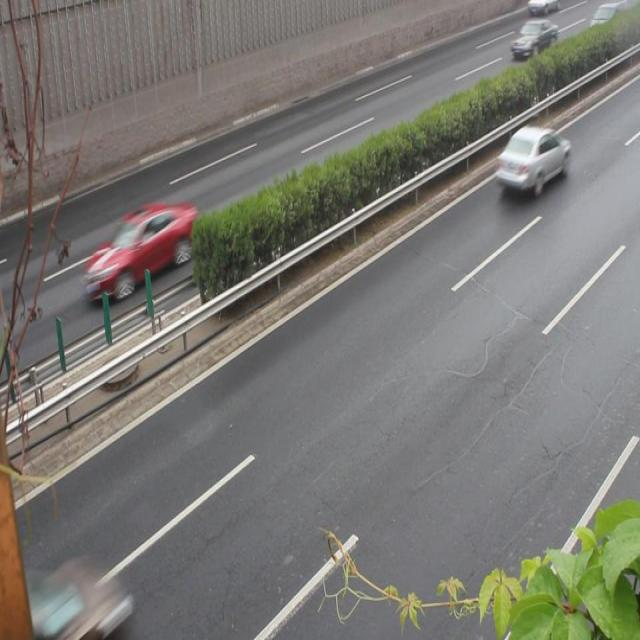car: (84, 204, 195, 294), (493, 125, 568, 197)
